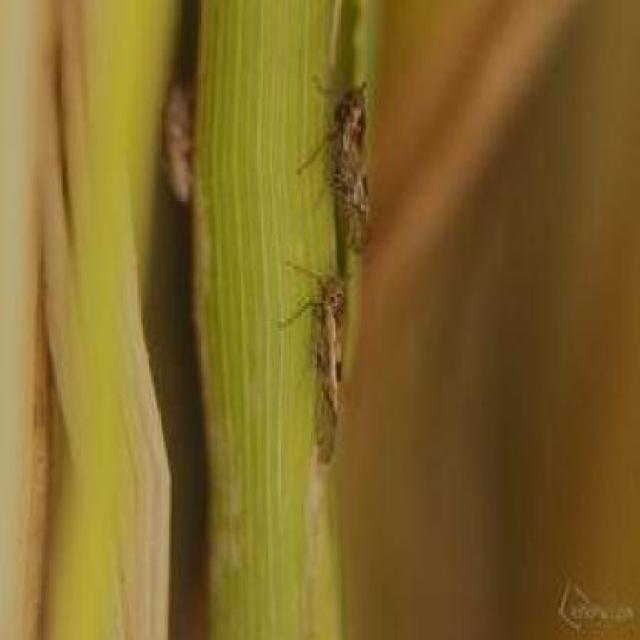brown-planthopper: (328, 80, 372, 251), (313, 271, 345, 466), (160, 82, 194, 202)
